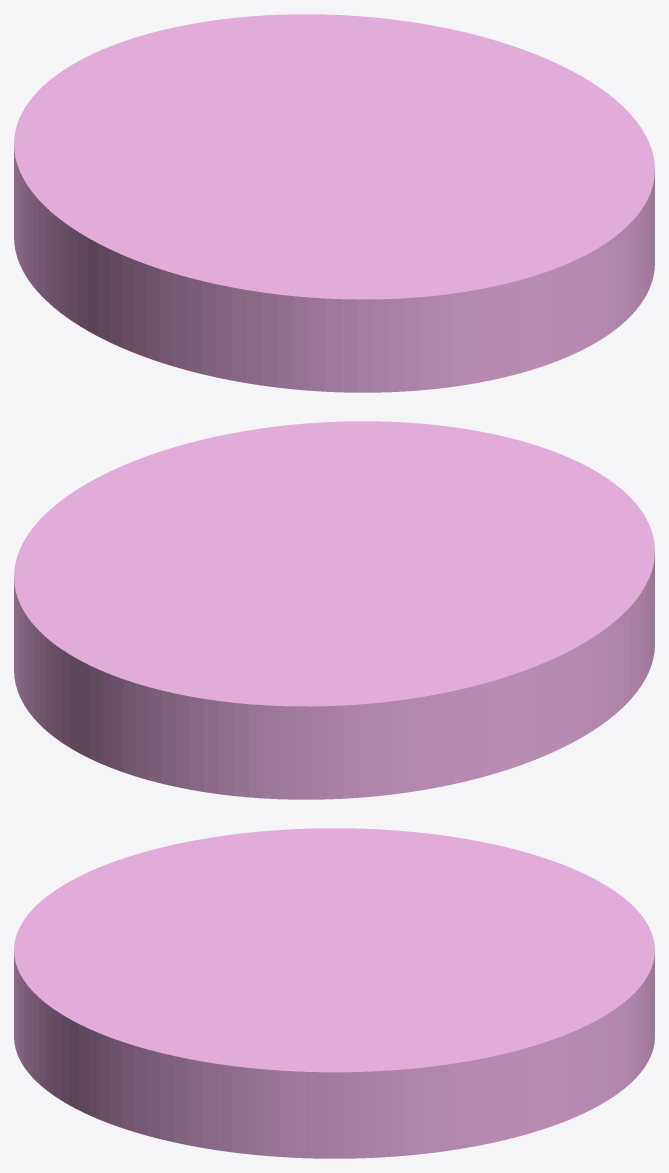
File: bottom.gltf
3 renders of one model, top to bottom at view 1: azimuth 30°, elevation 25°; view 2: azimuth 150°, elevation 25°; view 3: azimuth 270°, elevation 25°, orthographic. The views are drawn at different scales.
Visible parts, largest first — view 1: bottom; view 2: bottom; view 3: bottom.
Boxes of the visible parts, bbox=[...] form: bottom: bbox=[14, 14, 654, 392]; bottom: bbox=[14, 421, 654, 799]; bottom: bbox=[14, 828, 654, 1158].
Size of the model in its own units: 3.83 by 0.6328 by 4.25.
